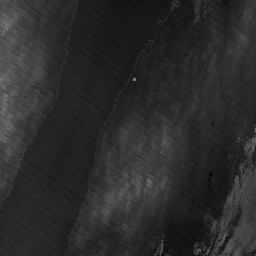Target: (130, 77, 138, 83)
